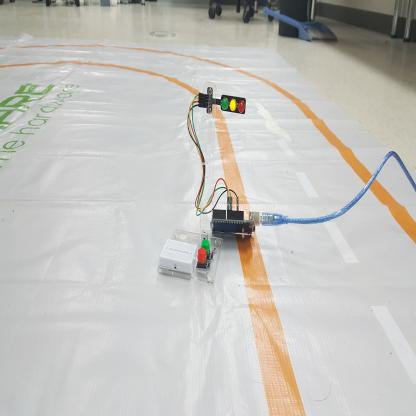traffic-light: (219, 93, 247, 116)
